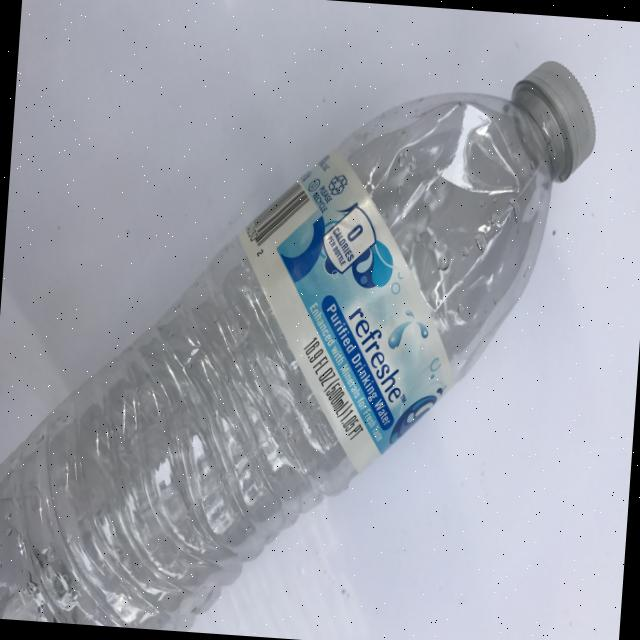plastic: (0, 21, 600, 640)
